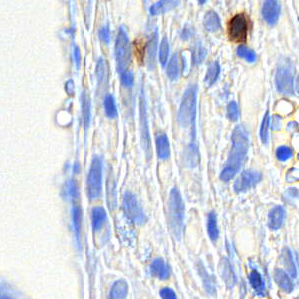Lymphocyte: (224, 10, 252, 44)
